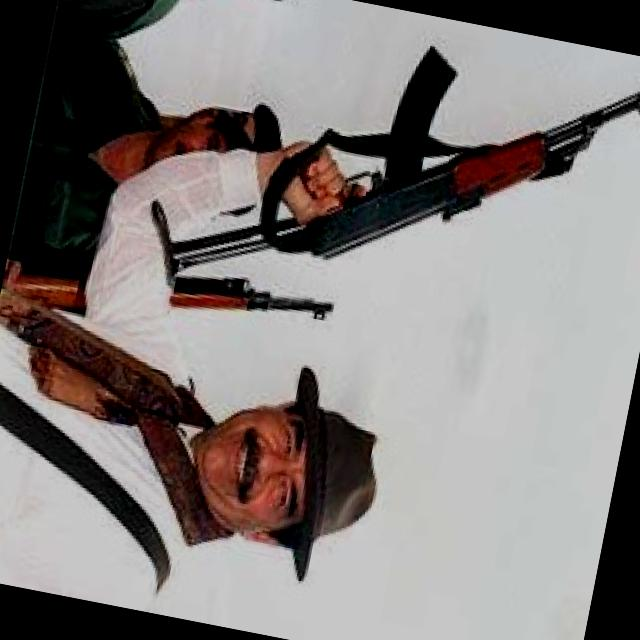long weapon: (194, 0, 639, 341)
